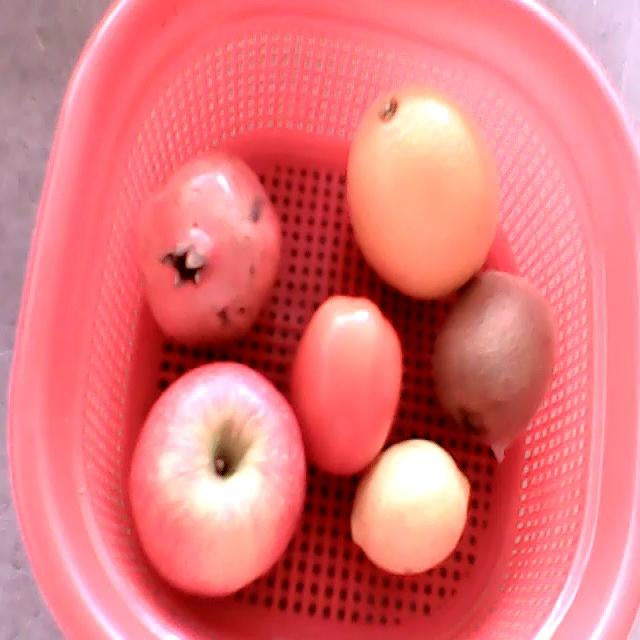apple: (130, 361, 307, 599)
kiwi: (435, 272, 553, 445)
lemon: (350, 438, 471, 576)
orange: (345, 83, 497, 300)
pomegranate: (130, 150, 285, 347)
tomato: (289, 293, 402, 474)
